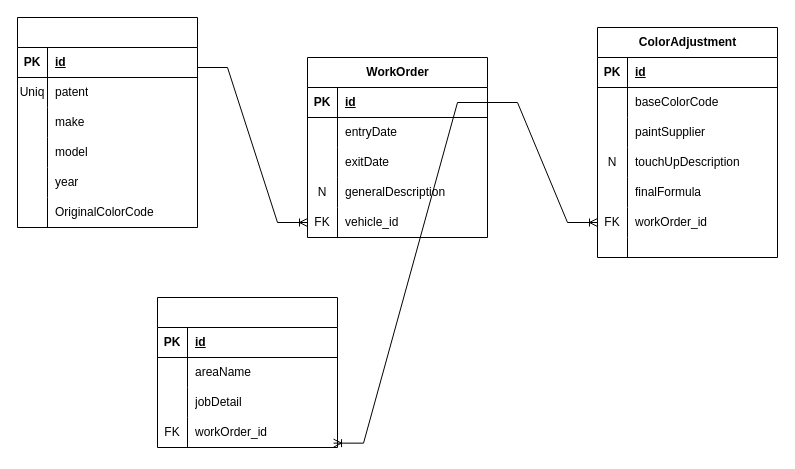
Image size: 795x469. Some labels were removed from this diagram. The box of each missing label's shape, as (x1, y1, x2, y2) in pixels:
RepairedArea: (156, 296, 338, 448)
Vehicle: (16, 16, 198, 228)
